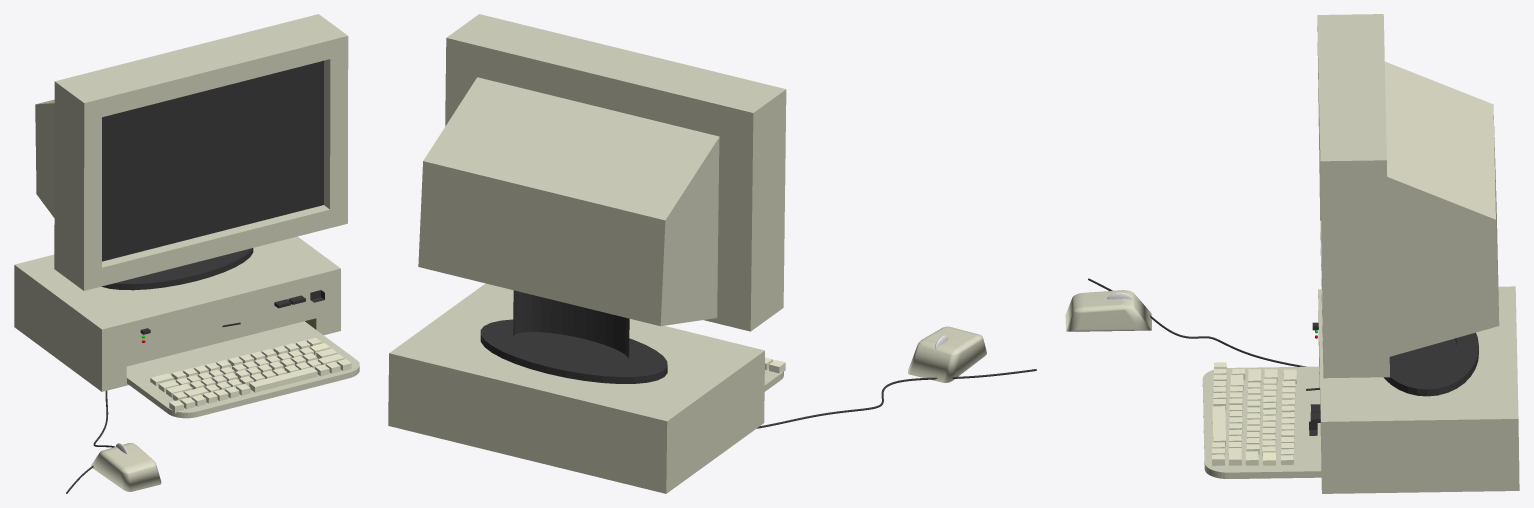
The model's file is ComputerV2.glb.
3 renders of one model, left to right at view 1: azimuth 30°, elevation 25°; view 2: azimuth 150°, elevation 25°; view 3: azimuth 270°, elevation 25°, orthographic. The views are drawn at different scales.
Visible parts, largest first — view 1: Base, Plane, Cube, Base.002, Screen/Monitor, Cube.056; view 2: Base, Screen/Monitor, Base.002, Cube, NurbsPath; view 3: Base, Screen/Monitor, Base.002, Cube, NurbsPath, Cube.056.
Boxes of the visible parts, <box> form: Base: <box>14,14,359,418</box>; Plane: <box>102,60,324,302</box>; Cube: <box>91,443,161,491</box>; Base.002: <box>101,248,253,290</box>; Screen/Monitor: <box>35,99,54,217</box>; Cube.056: <box>249,367,317,392</box>; Base: <box>388,14,786,493</box>; Screen/Monitor: <box>418,77,719,326</box>; Base.002: <box>480,290,667,383</box>; Cube: <box>908,326,986,382</box>; NurbsPath: <box>757,369,1036,428</box>; Base: <box>1202,14,1519,493</box>; Screen/Monitor: <box>1384,61,1499,356</box>; Base.002: <box>1383,332,1478,396</box>; Cube: <box>1065,290,1151,331</box>; NurbsPath: <box>1088,278,1319,390</box>; Cube.056: <box>1212,406,1225,446</box>.
Bounding box in the file's own units: 3.15 × 2.38 × 2.82.
71 materials, 65 textured.
